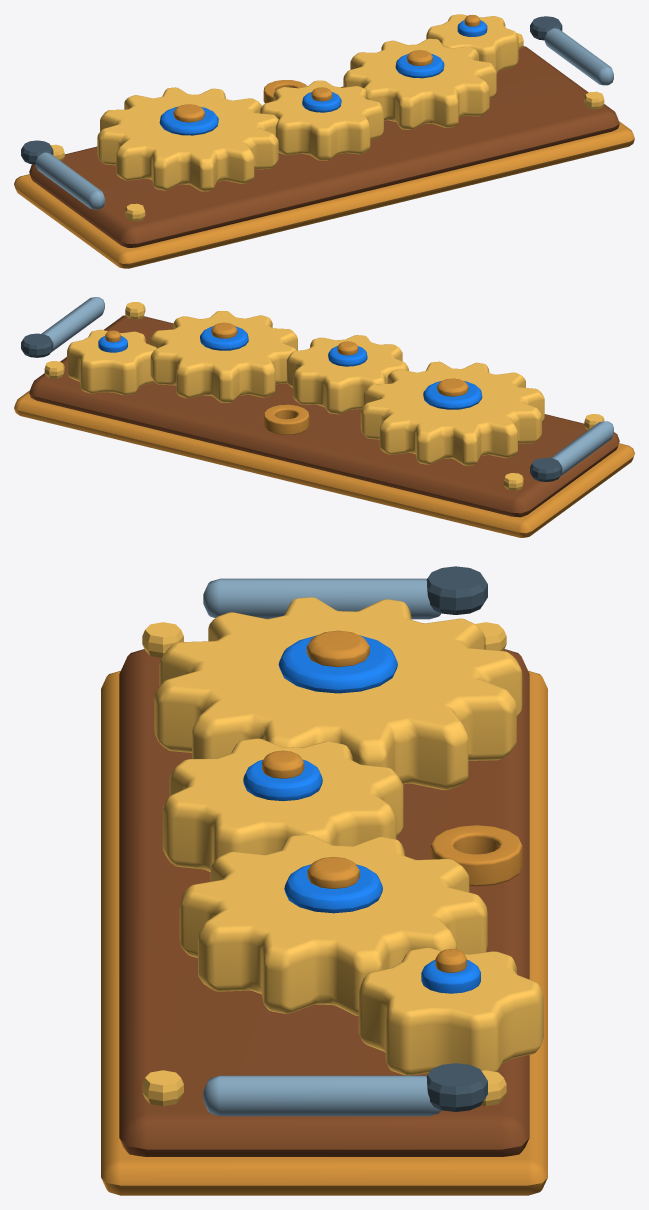
Rendered from Factory_Top.fbx.
3 renders of one model, top to bottom at view 1: azimuth 30°, elevation 25°; view 2: azimuth 150°, elevation 25°; view 3: azimuth 270°, elevation 25°, orthographic. The views are drawn at different scales.
Parts seen in each view (by area): view 1: Machine_wood_backplate, Gear_12T, Machine_brass_outline, Gear_10T, Gear_8T, Gear_6T, Steam_pipe.001, Steam_pipe, Gear_12T_blue_hub, Gear_10T_blue_hub, Gear_8T_blue_hub, Steam_port (+4 smaller); view 2: Machine_wood_backplate, Gear_12T, Machine_brass_outline, Gear_10T, Gear_8T, Gear_6T, Steam_pipe, Steam_pipe.001, Bolt_docking_socket, Gear_12T_blue_hub, Gear_10T_blue_hub, Steam_port.001 (+5 smaller); view 3: Machine_wood_backplate, Gear_12T, Machine_brass_outline, Gear_10T, Gear_8T, Gear_6T, Steam_pipe.001, Steam_pipe, Bolt_docking_socket, Gear_12T_blue_hub, Gear_10T_blue_hub, Steam_port.001 (+8 smaller).
Part boxes in pixels (box(x1,y1,x2,y2)): Machine_wood_backplate: box(29, 46, 619, 247); Gear_12T: box(97, 87, 278, 191); Machine_brass_outline: box(14, 121, 634, 268); Gear_10T: box(343, 38, 496, 129); Gear_8T: box(260, 80, 383, 160); Gear_6T: box(426, 14, 518, 73); Steam_pipe.001: box(544, 28, 613, 85); Steam_pipe: box(35, 152, 104, 209); Gear_12T_blue_hub: box(159, 106, 218, 135); Gear_10T_blue_hub: box(395, 53, 444, 78); Gear_8T_blue_hub: box(302, 92, 341, 112); Steam_port: box(21, 140, 53, 164); Machine_wood_backplate: box(29, 315, 619, 517); Gear_12T: box(360, 361, 544, 465); Machine_brass_outline: box(14, 390, 634, 537); Gear_10T: box(149, 311, 297, 402); Gear_8T: box(286, 335, 408, 414); Gear_6T: box(67, 329, 156, 395); Steam_pipe: box(550, 421, 613, 476); Steam_pipe.001: box(41, 297, 104, 352); Bolt_docking_socket: box(263, 404, 309, 435); Gear_12T_blue_hub: box(423, 381, 482, 409); Gear_10T_blue_hub: box(200, 326, 248, 350); Steam_port.001: box(21, 333, 53, 357); Machine_wood_backplate: box(119, 649, 529, 1156); Gear_12T: box(154, 597, 522, 790); Machine_brass_outline: box(101, 670, 547, 1195); Gear_10T: box(179, 834, 487, 1015); Gear_8T: box(162, 738, 403, 871); Gear_6T: box(358, 947, 543, 1075); Steam_pipe.001: box(203, 1075, 441, 1116); Steam_pipe: box(203, 578, 440, 619); Bolt_docking_socket: box(430, 825, 522, 886); Gear_12T_blue_hub: box(278, 635, 397, 693); Gear_10T_blue_hub: box(284, 864, 382, 913); Steam_port.001: box(426, 1063, 487, 1111).
Size of the model in its own units: 538 by 87 by 194.
